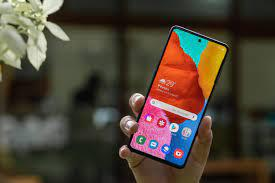Hand: (118, 94, 222, 181)
Smartphone: (127, 26, 229, 171)
